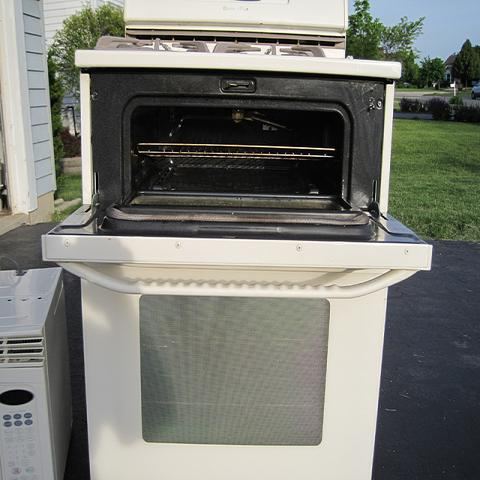car: (471, 79, 479, 100)
